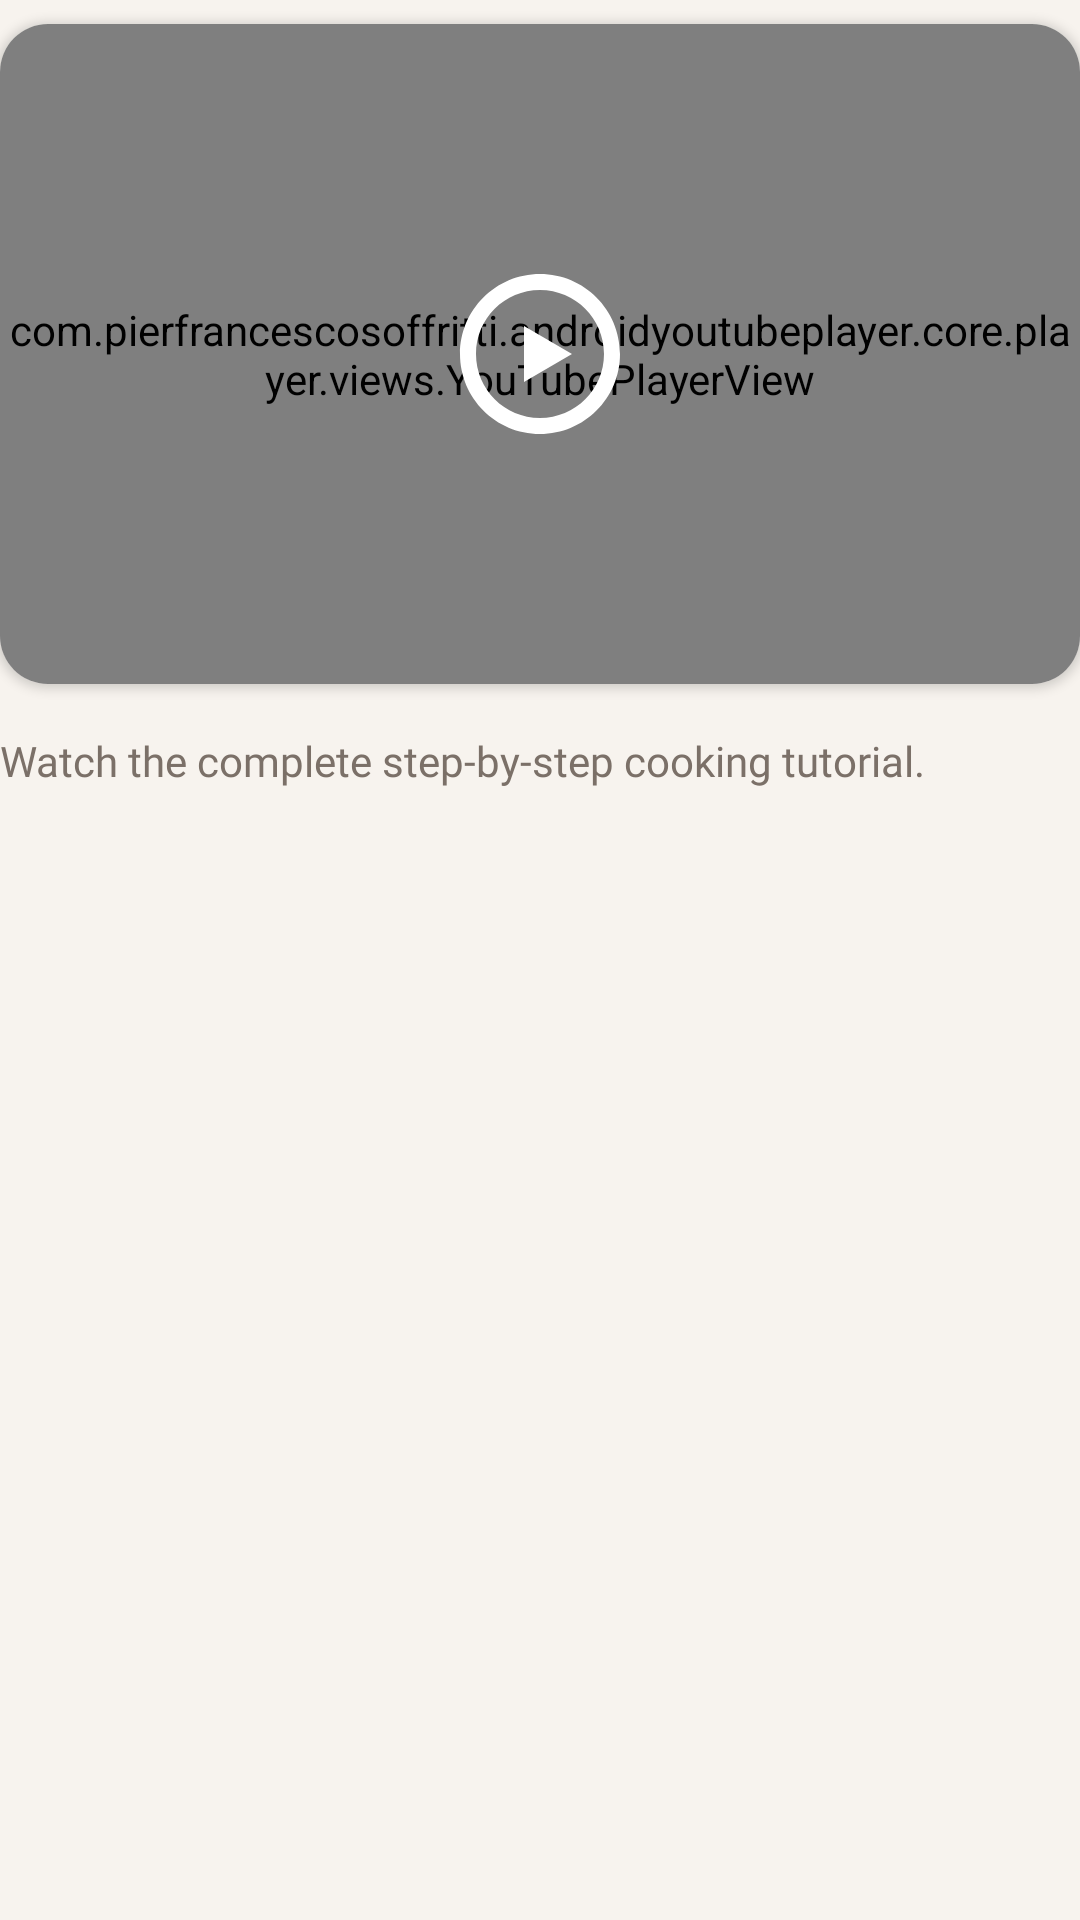

Icon bounding boxes for this 1080w x 1920h phone screenshot, format bbox(x1, y1, x2, y2):
play circle: bbox(444, 274, 634, 434)
